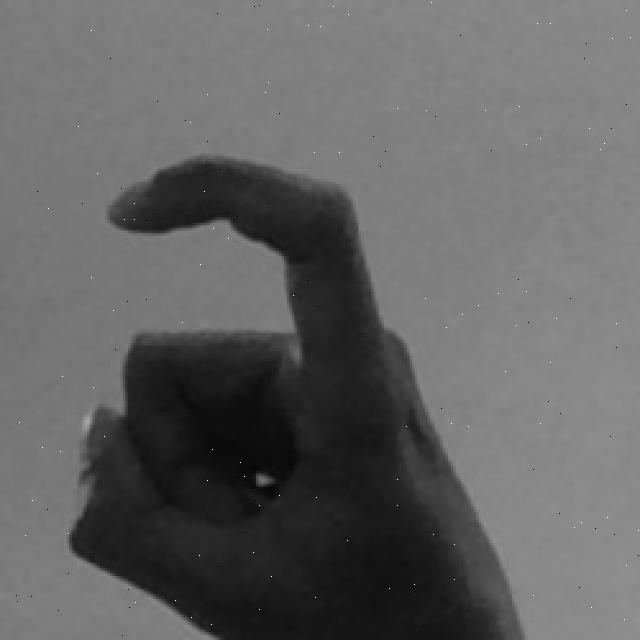X: (52, 142, 528, 640)
